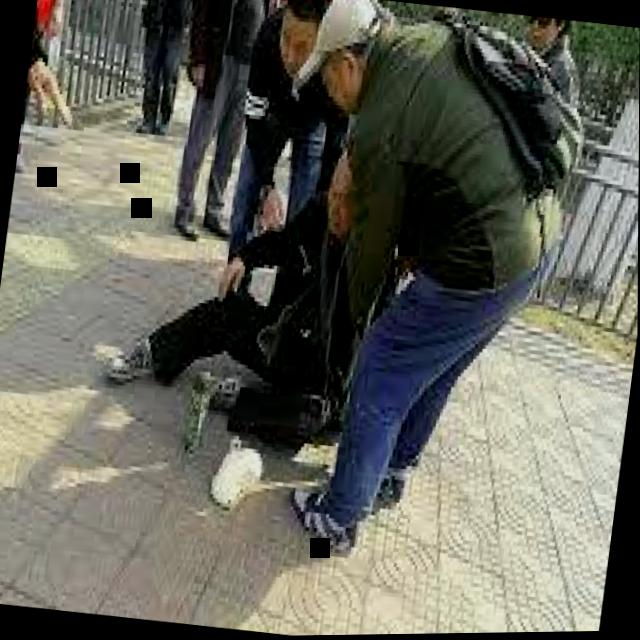Fall-Detected: (74, 123, 394, 505)
